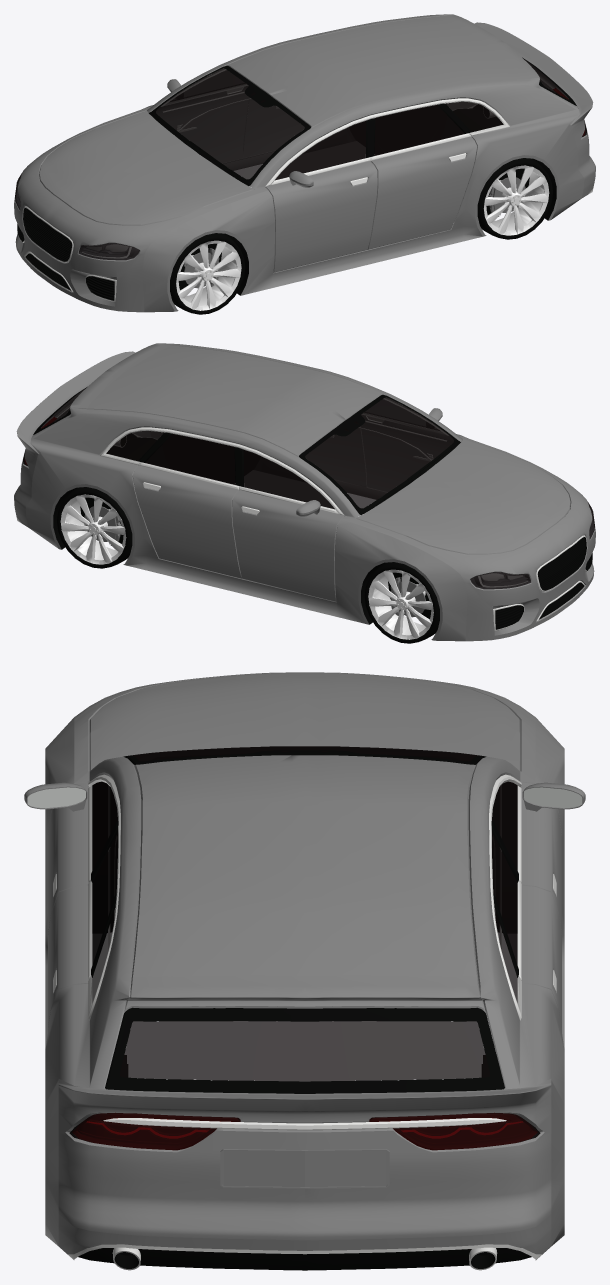
File: shc-mc-free-promotion-car-cfaabd.glb
3 views of the same model, one above another, from view 1: azimuth 30°, elevation 25°; view 2: azimuth 150°, elevation 25°; view 3: azimuth 270°, elevation 25° (orthographic). The views are drawn at different scales.
Visible parts, largest first — view 1: SHC MC Free Promotion Car.009_Rear_light_casing_0, SHC MC Free Promotion Car.009_Main_Glass_0; view 2: SHC MC Free Promotion Car.009_Rear_light_casing_0, SHC MC Free Promotion Car.009_Main_Glass_0; view 3: SHC MC Free Promotion Car.009_Rear_light_casing_0, SHC MC Free Promotion Car.009_Main_Glass_0.
Boxes of the visible parts, x1=… form: SHC MC Free Promotion Car.009_Rear_light_casing_0: x1=14, y1=14, x2=595, y2=314; SHC MC Free Promotion Car.009_Main_Glass_0: x1=15, y1=59, x2=586, y2=260; SHC MC Free Promotion Car.009_Rear_light_casing_0: x1=14, y1=343, x2=595, y2=643; SHC MC Free Promotion Car.009_Main_Glass_0: x1=23, y1=388, x2=594, y2=589; SHC MC Free Promotion Car.009_Rear_light_casing_0: x1=24, y1=672, x2=585, y2=1270; SHC MC Free Promotion Car.009_Main_Glass_0: x1=69, y1=746, x2=540, y2=1150.
Size of the model in its own units: 476 by 138 by 227.
Materials: 4 (4 with a texture image).
